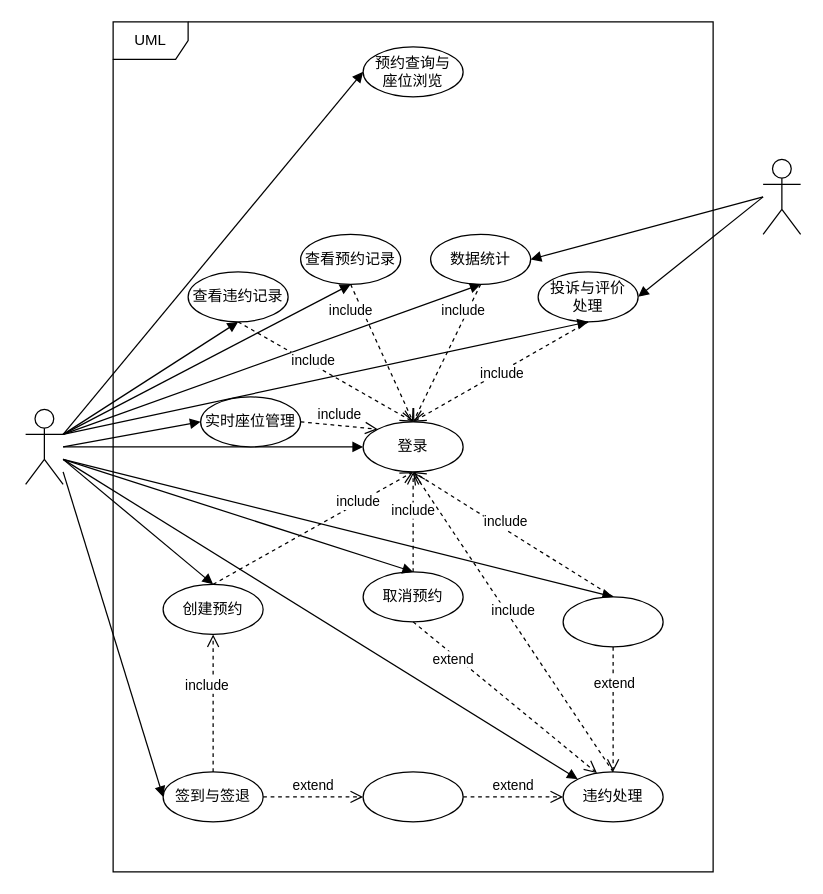
The diagram is 823 pixels wide and 894 high, and some of its shapes have lost their labels. Here are the shapes that lost their labels. From the top down, the centre of each, then its label:
(781,196): 运营
(43,446): 管理员
(612,621): 修改预约
(412,796): 超时自动释放
